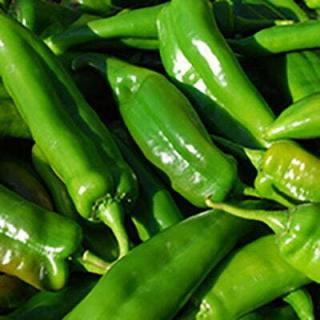Cabai Hijau: (2, 1, 320, 320)
